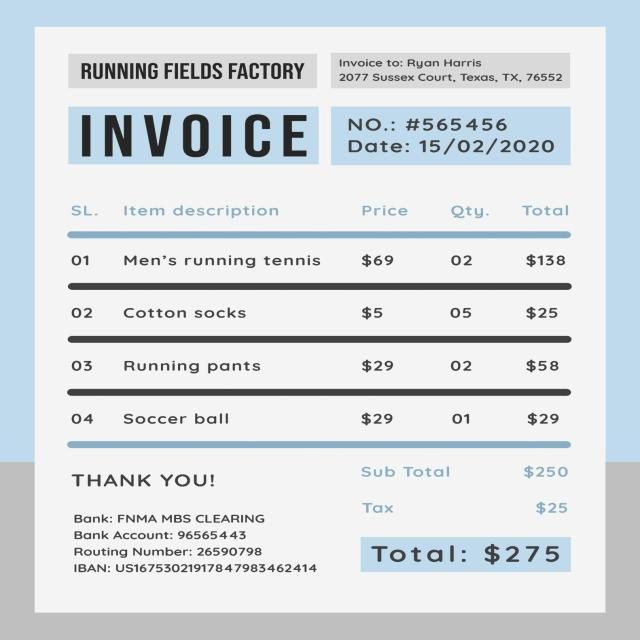ROI: (36, 194, 588, 448), (358, 461, 578, 574), (70, 506, 324, 576), (67, 106, 316, 164), (334, 106, 570, 164), (330, 51, 562, 90), (66, 54, 316, 90), (69, 471, 219, 492)
